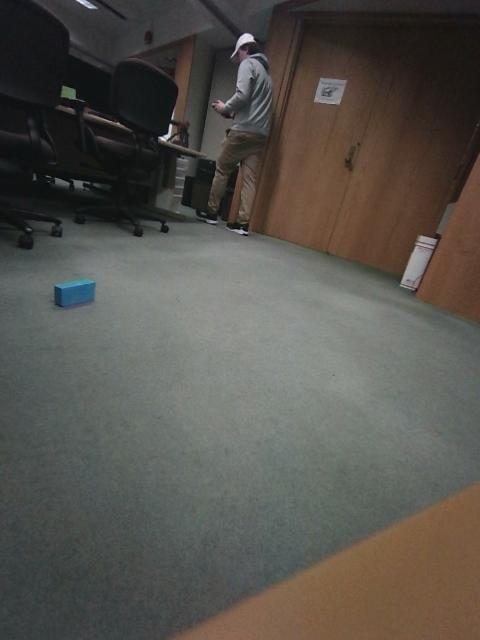block: (291, 270, 317, 295)
